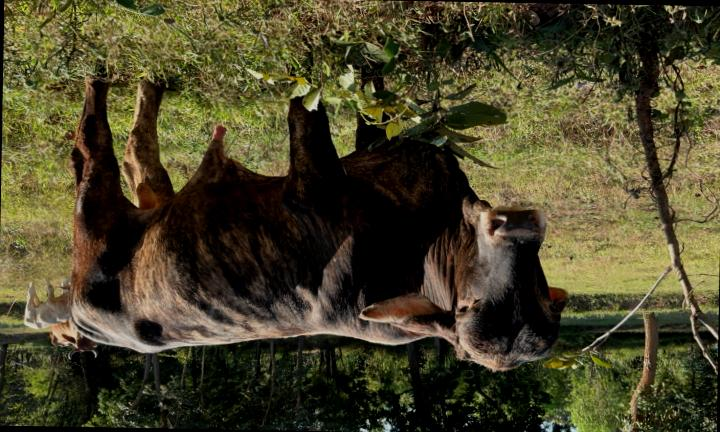Charolais: (70, 78, 567, 370)
